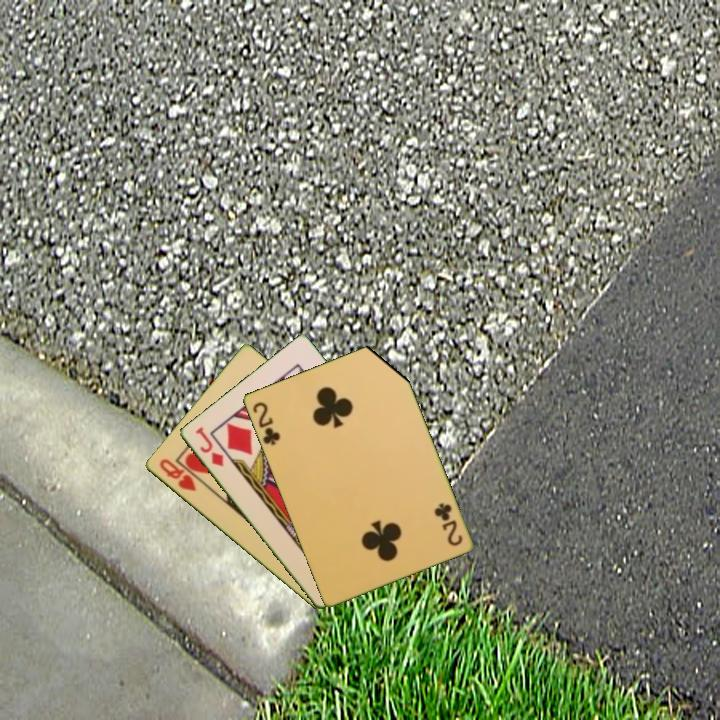2c: (249, 398, 283, 448), (431, 499, 465, 549)
Jd: (191, 423, 226, 470)
Qh: (155, 455, 199, 494)
